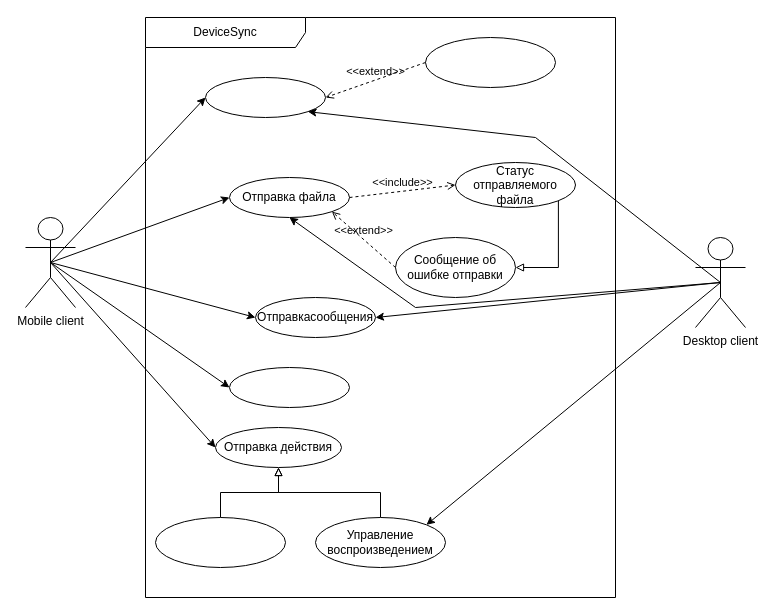
This 775x615 diagram has some shape labels left out. Here are the shapes that lost their labels. From the top down, the centre of each, then its label:
At (x=490, y=62): "Сообщение об ошибке подключения".
At (x=265, y=97): "Подключение".
At (x=289, y=387): "Отправка команды".
At (x=220, y=542): "Управление слайд шоу".
